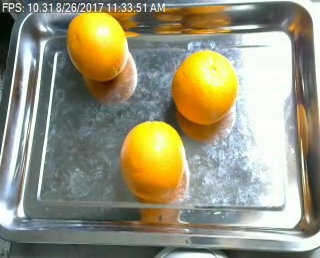Orange: (171, 48, 240, 125), (119, 121, 184, 201), (67, 12, 129, 80)
